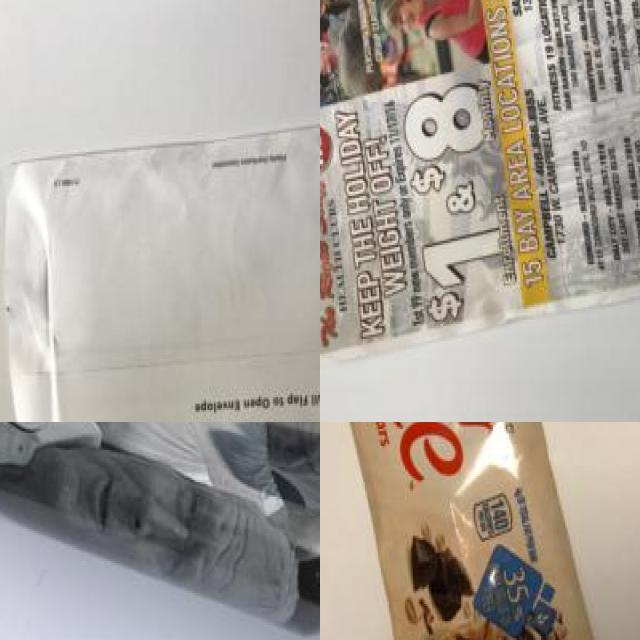paper: (320, 0, 640, 350), (12, 133, 320, 422)
plastic: (0, 422, 320, 640)
trash: (320, 422, 640, 640)
